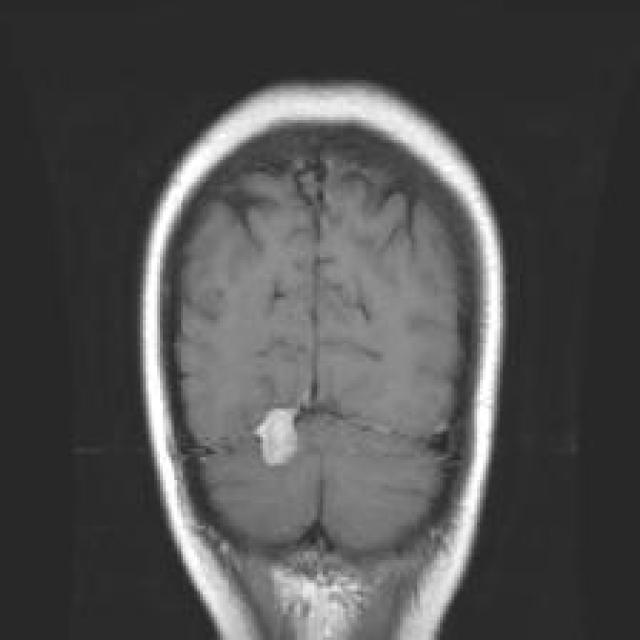meningioma_tumor: (246, 395, 314, 475)
